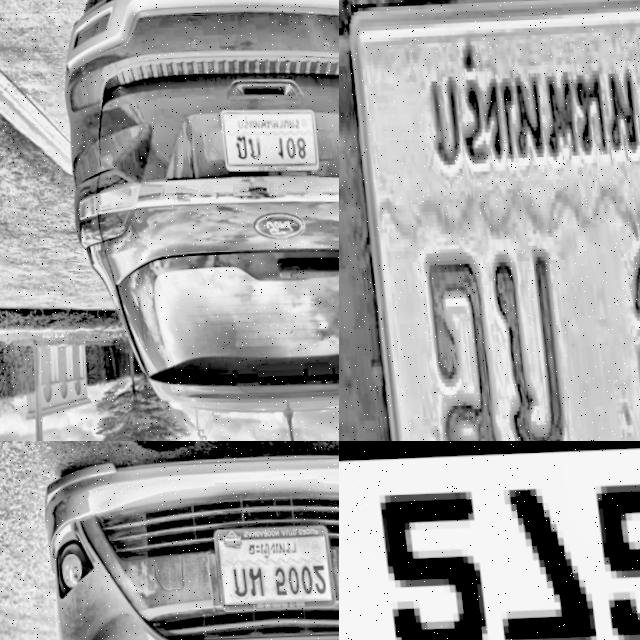license-plate: (339, 0, 640, 441), (339, 441, 640, 640), (206, 523, 335, 614), (211, 104, 315, 174)
